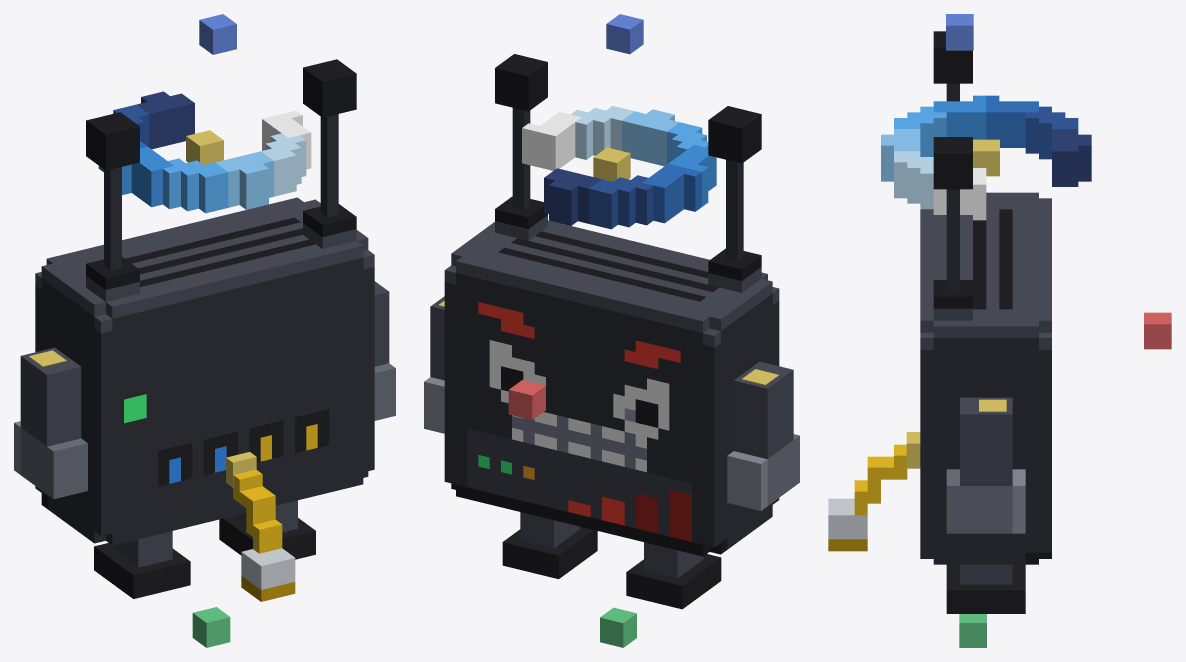
File: LaginoPingone.glb
3 renders of one model, left to right at view 1: azimuth 30°, elevation 25°; view 2: azimuth 150°, elevation 25°; view 3: azimuth 270°, elevation 25°, orthographic.
Parts seen in each view (by area): view 1: LaginoPingone_Body, LaginoPingone_Prop6, LaginoPingone_Arm4, LaginoPingone_Tail5, LaginoPingone_Leg2, LaginoPingone_Leg1, LaginoPingone_Arm3, LaginoPingone_Built, LaginoPingone_Top, LaginoPingone_Pivot6, LaginoPingone_Pivot5; view 2: LaginoPingone_Body, LaginoPingone_Prop6, LaginoPingone_Arm4, LaginoPingone_Leg2, LaginoPingone_Leg1, LaginoPingone_Arm3, LaginoPingone_Top, LaginoPingone_Front, LaginoPingone_Built, LaginoPingone_Pivot6; view 3: LaginoPingone_Body, LaginoPingone_Prop6, LaginoPingone_Arm3, LaginoPingone_Leg1, LaginoPingone_Tail5, LaginoPingone_Front, LaginoPingone_Top, LaginoPingone_Built, LaginoPingone_Pivot6, LaginoPingone_Pivot5.
Boxes of the visible parts, bbox=[...] form: LaginoPingone_Body: bbox=[35, 59, 374, 545]; LaginoPingone_Prop6: bbox=[98, 91, 311, 213]; LaginoPingone_Arm4: bbox=[14, 347, 87, 499]; LaginoPingone_Tail5: bbox=[233, 469, 295, 601]; LaginoPingone_Leg2: bbox=[94, 531, 190, 598]; LaginoPingone_Leg1: bbox=[219, 500, 315, 559]; LaginoPingone_Arm3: bbox=[374, 281, 395, 420]; LaginoPingone_Built: bbox=[192, 607, 230, 647]; LaginoPingone_Top: bbox=[199, 14, 236, 54]; LaginoPingone_Pivot6: bbox=[186, 130, 223, 164]; LaginoPingone_Pivot5: bbox=[226, 452, 256, 487]; LaginoPingone_Body: bbox=[444, 54, 779, 556]; LaginoPingone_Prop6: bbox=[522, 106, 716, 229]; LaginoPingone_Arm4: bbox=[727, 361, 799, 510]; LaginoPingone_Leg2: bbox=[626, 542, 721, 609]; LaginoPingone_Leg1: bbox=[502, 512, 597, 579]; LaginoPingone_Arm3: bbox=[424, 296, 444, 433]; LaginoPingone_Top: bbox=[606, 14, 643, 54]; LaginoPingone_Front: bbox=[508, 380, 545, 420]; LaginoPingone_Built: bbox=[600, 607, 636, 647]; LaginoPingone_Pivot6: bbox=[593, 147, 630, 181]; LaginoPingone_Body: bbox=[920, 31, 1051, 564]; LaginoPingone_Prop6: bbox=[881, 95, 1091, 220]; LaginoPingone_Arm3: bbox=[946, 397, 1025, 533]; LaginoPingone_Leg1: bbox=[946, 564, 1025, 613]; LaginoPingone_Tail5: bbox=[828, 444, 907, 551]; LaginoPingone_Front: bbox=[1144, 312, 1171, 349]; LaginoPingone_Top: bbox=[946, 14, 973, 50]; LaginoPingone_Built: bbox=[959, 614, 986, 647]; LaginoPingone_Pivot6: bbox=[973, 139, 999, 176]; LaginoPingone_Pivot5: bbox=[906, 432, 920, 468].
Bounding box in the file's own units: 3.57 × 6.21 × 3.11.
1 material, 1 textured.
